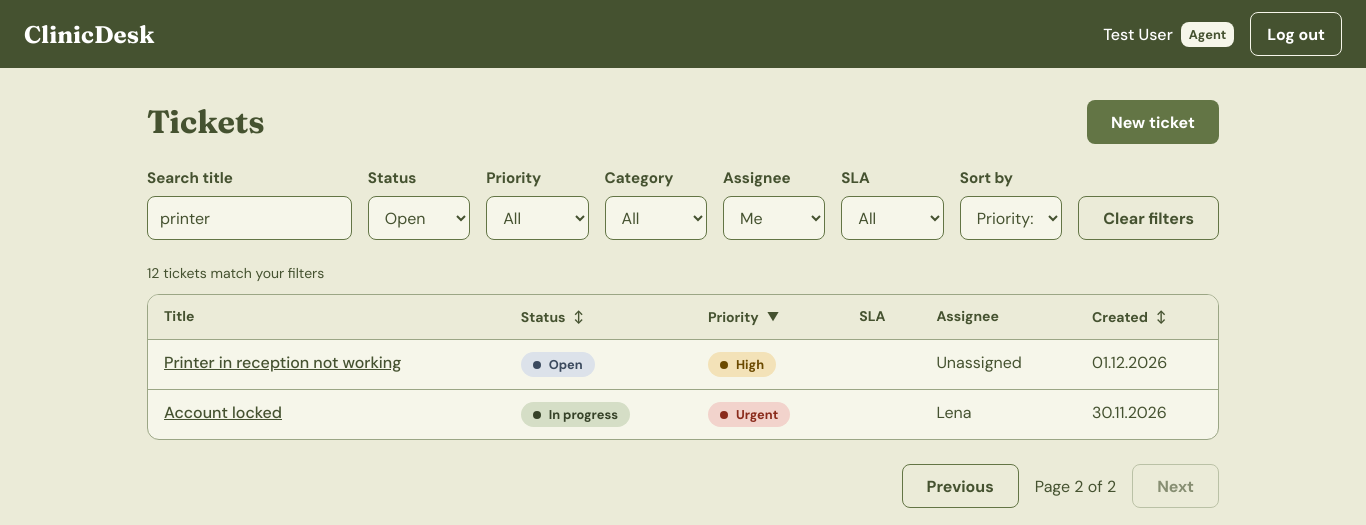
Test: clear filters and empty states › shows "Clear filters" only while a filter is active and keeps the sort
Expected: the table is shown, left=148, top=295, right=1218, bottom=439
Click the button "Clear filters". click: [1148, 218]
box: left=1078, top=196, right=1219, bottom=240
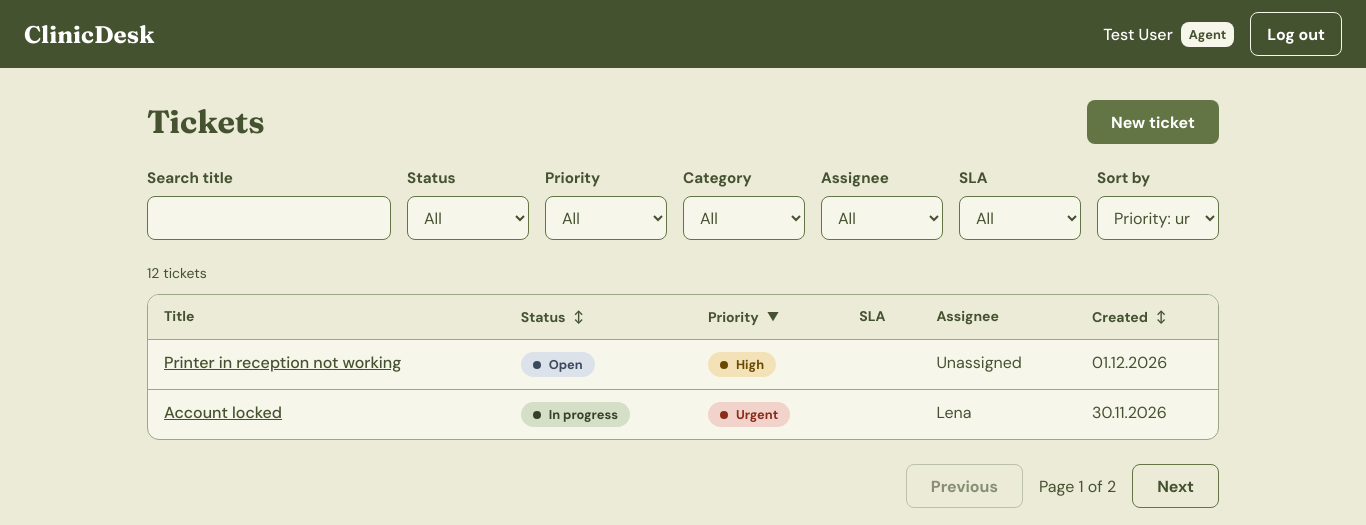
Now the button "Clear filters" is gone
Now the dropdown labelled "Status" shows "All", box left=407, top=196, right=529, bottom=240
